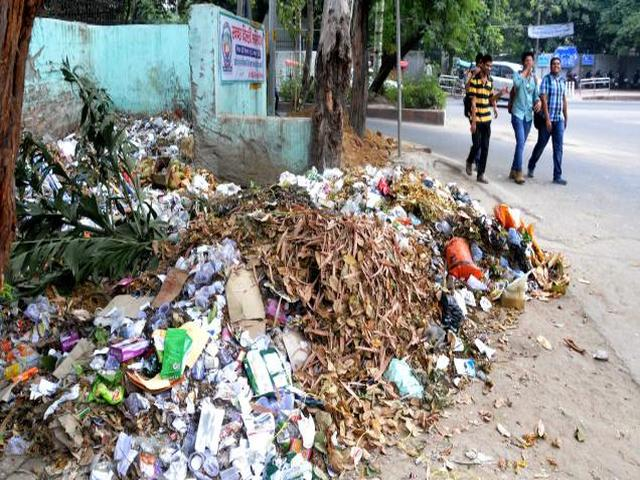garbage: (39, 148, 444, 449)
